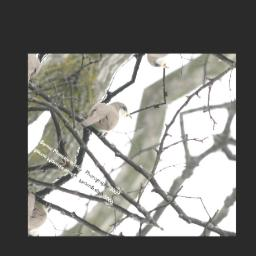Cuckoo: (77, 89, 137, 147)
